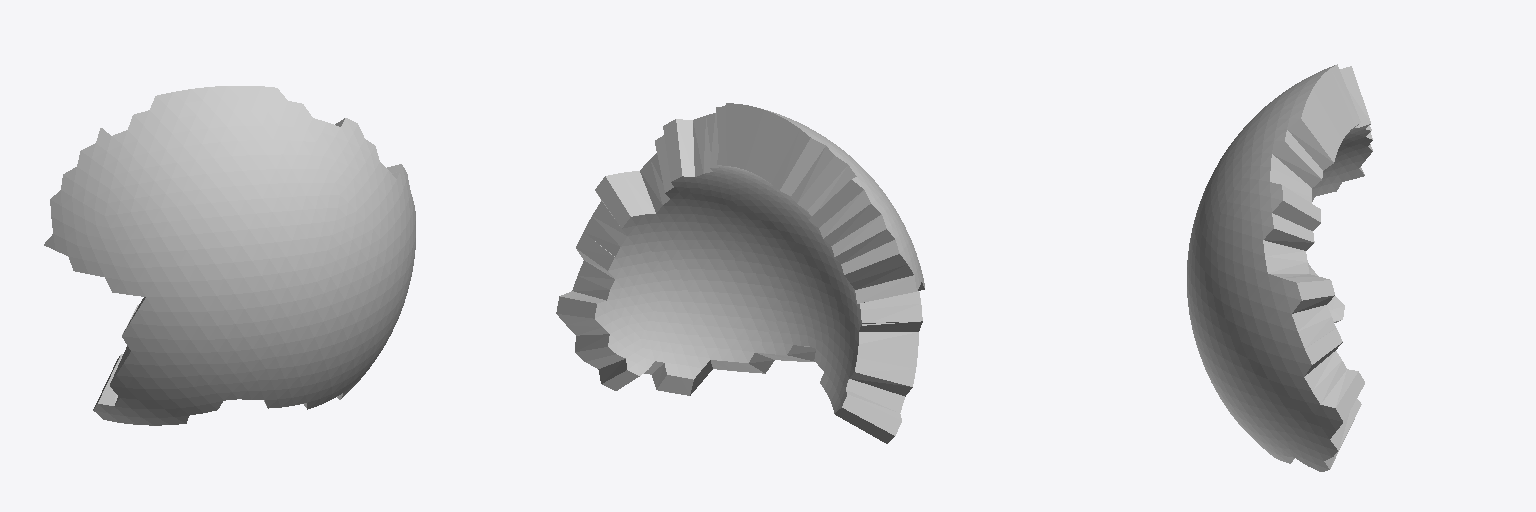
The model's file is clouds_14.obj.
3 views of the same model, side by side, from view 1: azimuth 30°, elevation 25°; view 2: azimuth 150°, elevation 25°; view 3: azimuth 270°, elevation 25° (orthographic).
Parts seen in each view (by area): view 1: Icosphere.039; view 2: Icosphere.039; view 3: Icosphere.039.
Part boxes in pixels (left/top/right/bottom): Icosphere.039: left=44, top=86, right=415, bottom=425; Icosphere.039: left=556, top=103, right=924, bottom=443; Icosphere.039: left=1187, top=64, right=1372, bottom=471.
Bounding box in the file's own units: 19.8 × 16.94 × 8.85.